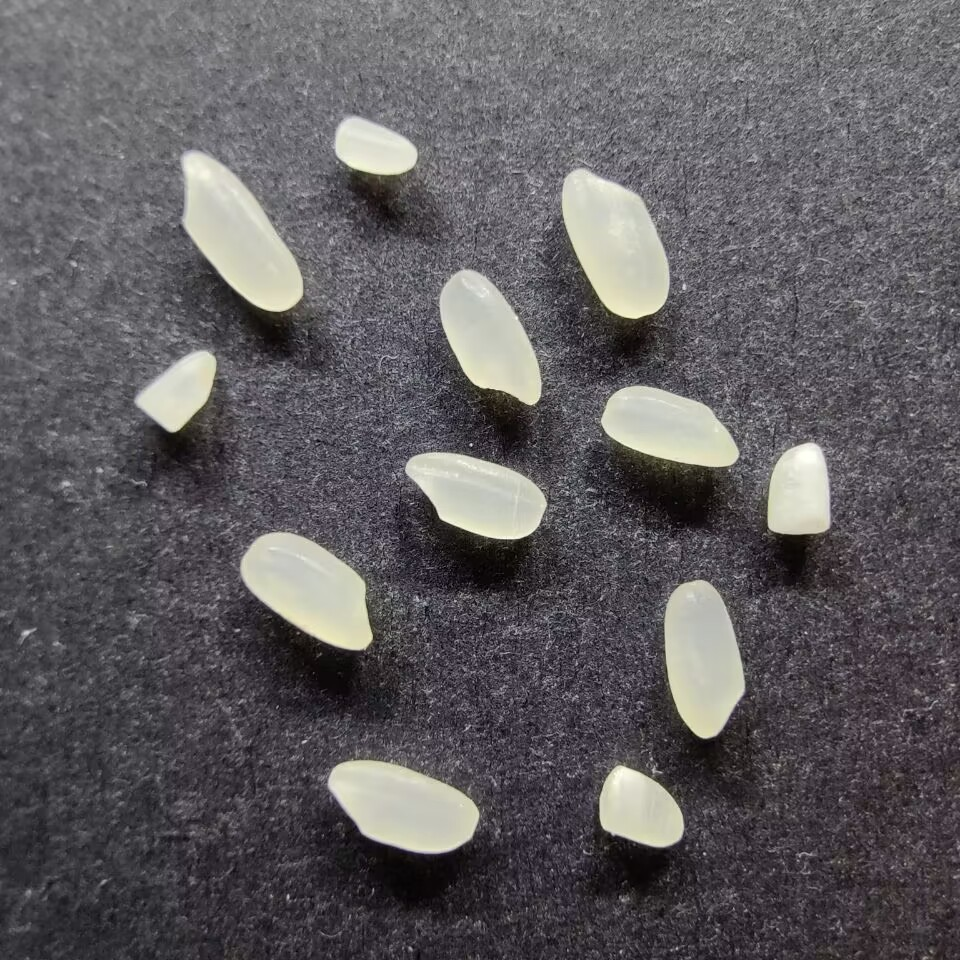broken: (597, 763, 685, 849), (766, 438, 837, 537), (132, 351, 215, 433), (331, 115, 419, 175)
rice: (179, 147, 307, 312), (559, 166, 671, 320), (238, 529, 376, 652), (437, 268, 544, 407), (325, 759, 481, 854), (661, 578, 746, 741), (404, 450, 549, 543), (598, 384, 742, 468)
